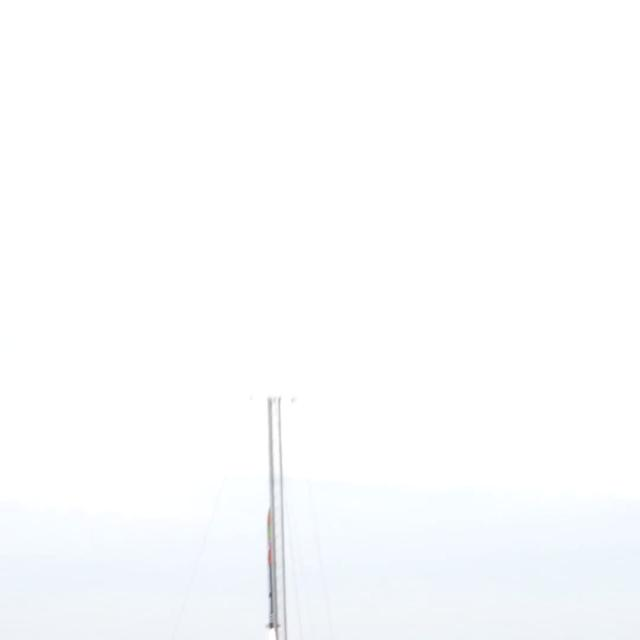Rocket: (266, 508, 280, 629)
